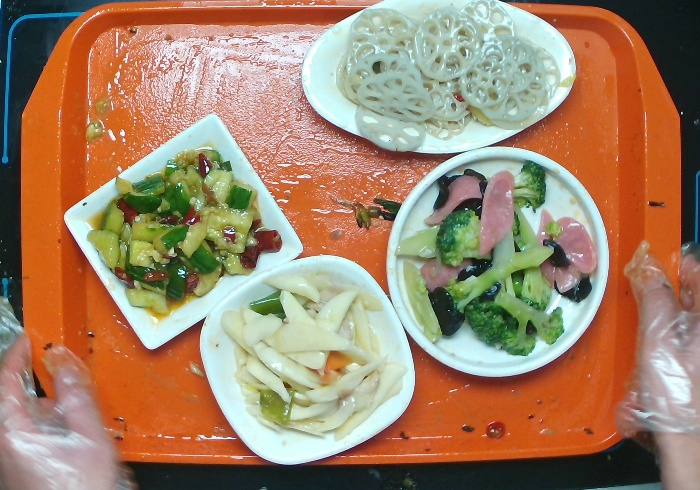HZYJPL-Si_Fang_Die: (60, 110, 305, 353)
HZYJPL-Si_Fang_Yuan_Die: (196, 252, 417, 468)
HZYJPL-Xiao_Yu_Die: (299, 1, 579, 158)
HZYJPL-Xiao_Yuan_Die: (383, 143, 612, 381)
